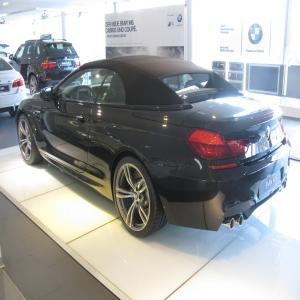Vehicle-registration-plate: (260, 169, 282, 200), (1, 87, 11, 94), (60, 62, 72, 67)
